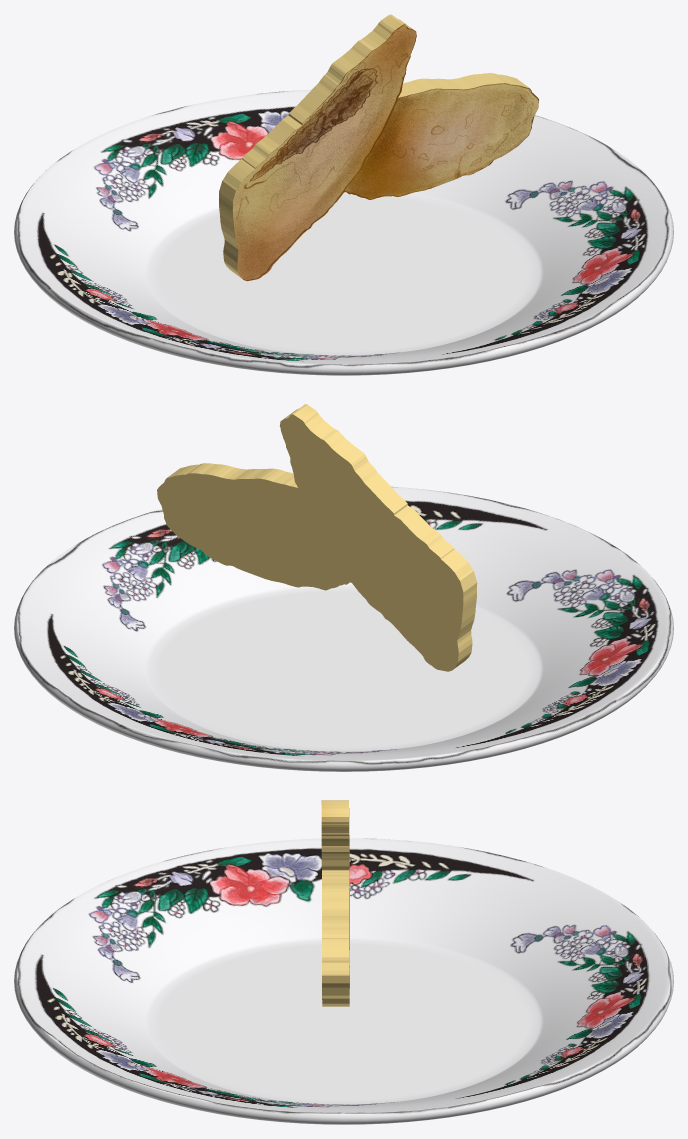
File: Carimañola.glb
3 renders of one model, top to bottom at view 1: azimuth 30°, elevation 25°; view 2: azimuth 150°, elevation 25°; view 3: azimuth 270°, elevation 25°, orthographic.
Visible parts, largest first — view 1: Plato.001, Carimañola; view 2: Plato.001, Carimañola; view 3: Plato.001, Carimañola.
Part boxes in pixels (x1,y1,x2,y2): Plato.001: (14,89,673,375); Carimañola: (219,14,538,281); Plato.001: (14,486,673,771); Carimañola: (157,404,477,671); Plato.001: (14,838,673,1124); Carimañola: (321,800,349,1006).
Size of the model in its own units: 18.56 by 7.95 by 18.56.
Materials: 2 (2 with a texture image).
